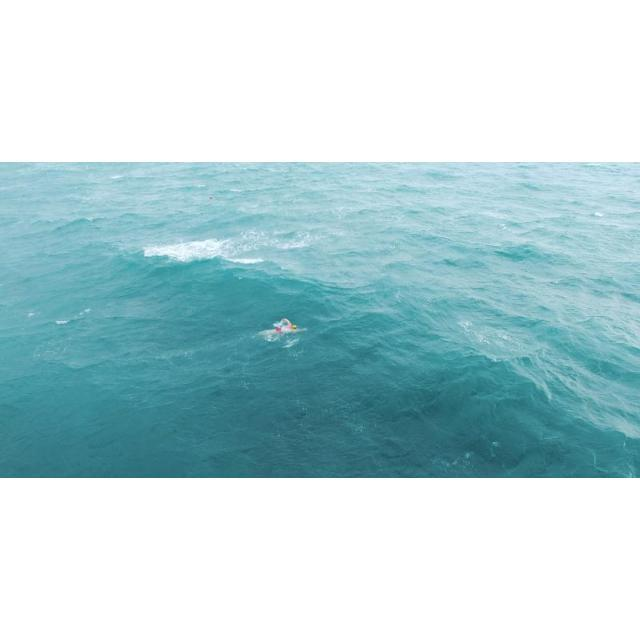human: (273, 317, 297, 333)
